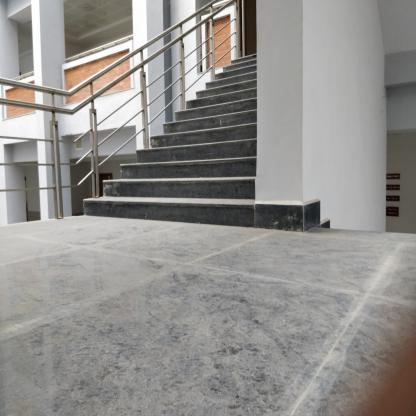stairs: (225, 61, 255, 233)
